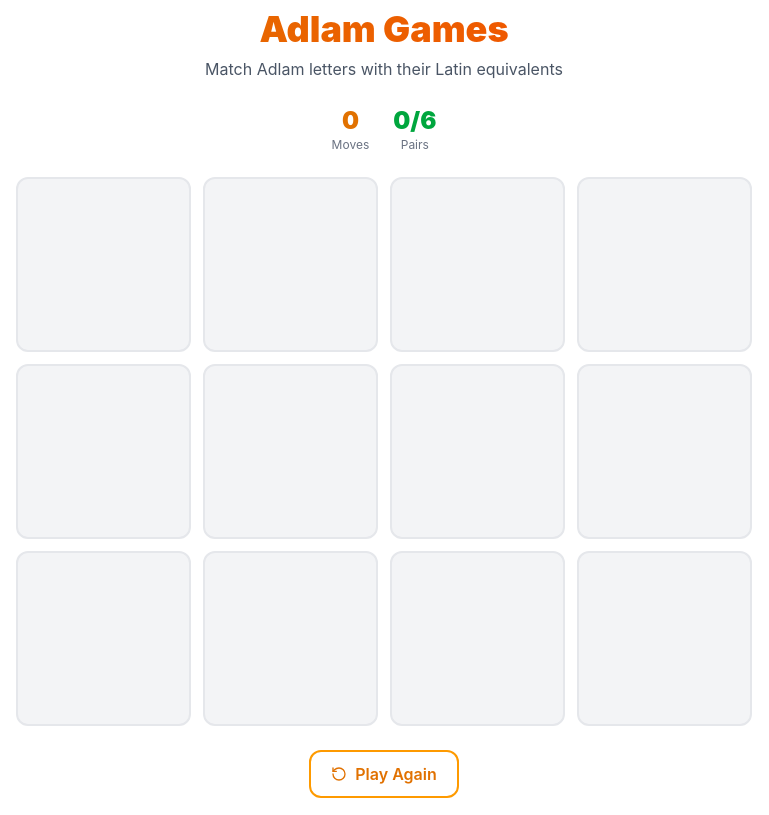
Test case: GamesScreen › increments moves counter after two cards are flipped
This screenshot has width=769, height=815.
Check: the text "0" is shown, box [342,106,359,135]
Click the 1st button "?" at (104, 264), box [16,177,191,352]
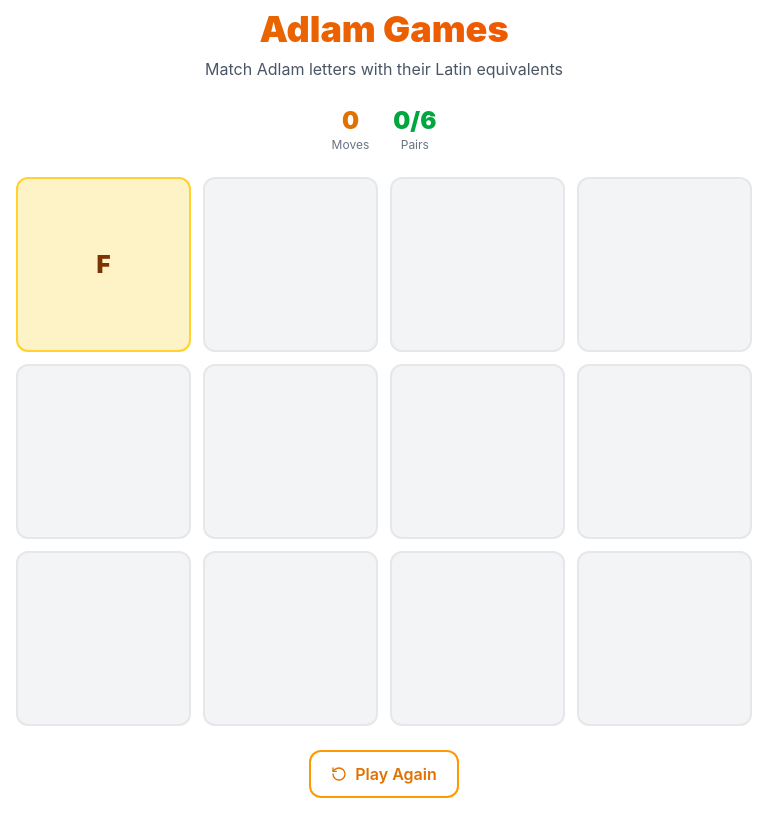
Click the 1st button "?" at (290, 264), box [203,177,378,352]
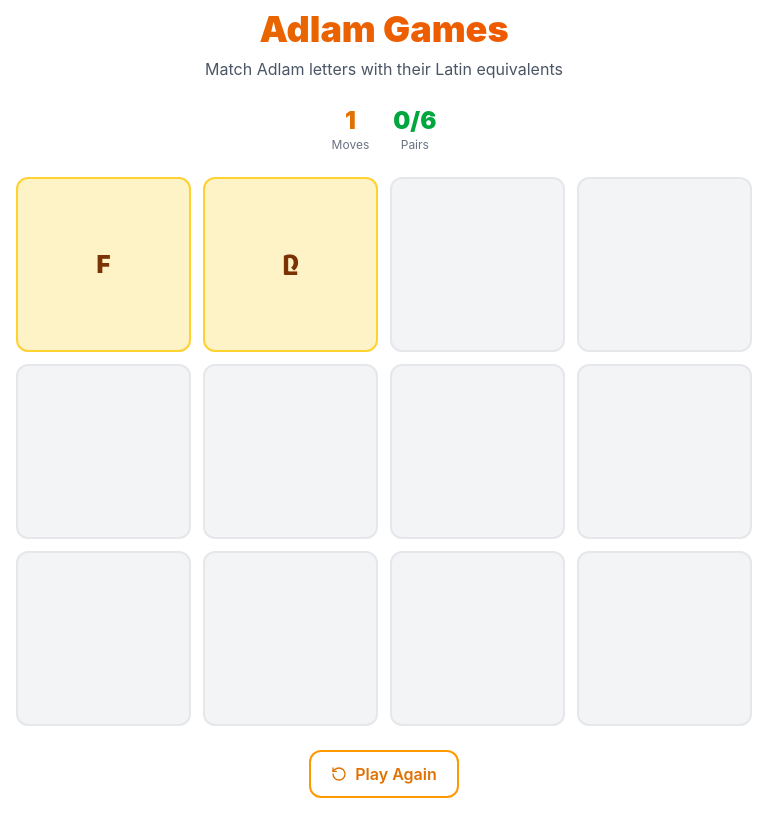
Check: the text "1" is shown, box [345,106,356,135]
